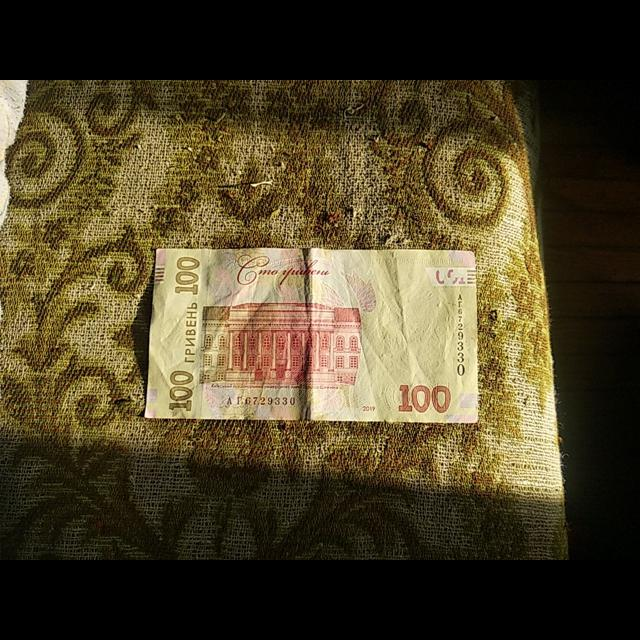100uah: (150, 247, 482, 418)
